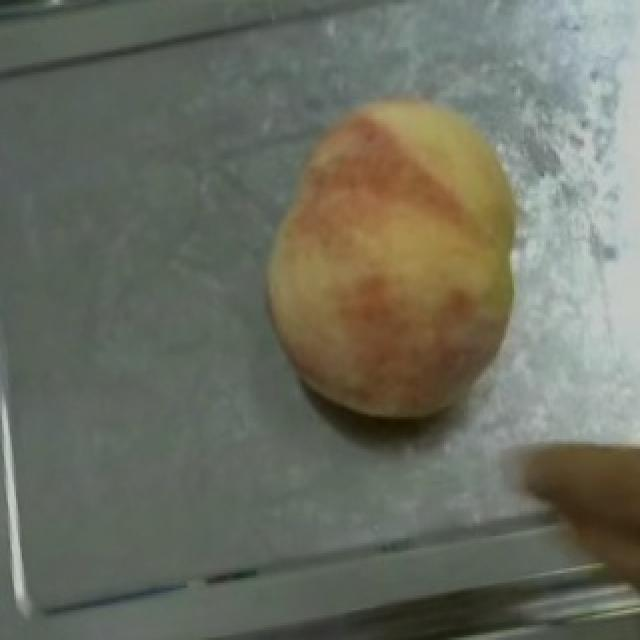Fruit: (246, 65, 550, 377), (492, 399, 640, 635)
